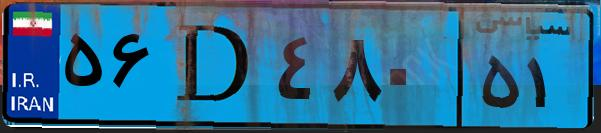0: (385, 28, 445, 110)
1: (525, 38, 570, 115)
4: (270, 28, 330, 110)
5: (57, 26, 110, 100), (475, 38, 525, 113)
6: (110, 28, 158, 98)
8: (330, 28, 385, 110)
D: (158, 12, 270, 120)
